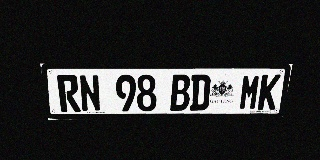8: (137, 75, 157, 111)
9: (115, 75, 136, 111)
B: (170, 75, 191, 111)
D: (190, 75, 211, 111)
K: (257, 74, 281, 110)
M: (238, 74, 262, 110)
N: (78, 75, 101, 112)
R: (56, 75, 81, 112)
